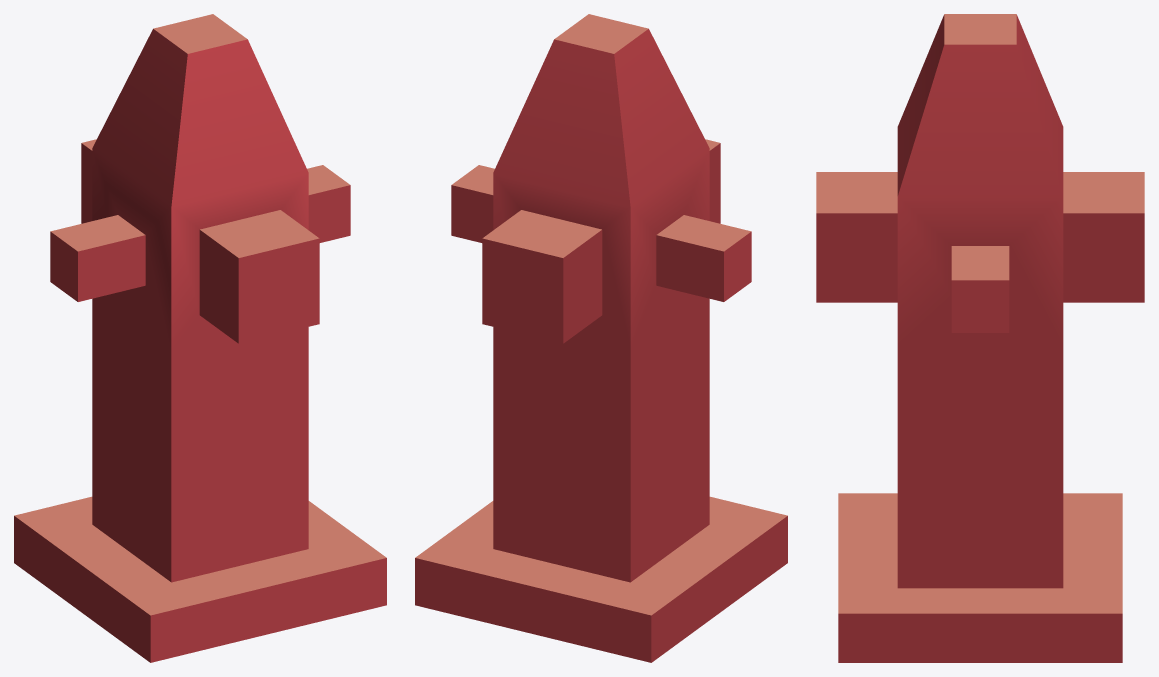
File: hydrant_mesh.fbx
The picture shows the model from 3 angles, left to right: view 1: azimuth 30°, elevation 25°; view 2: azimuth 150°, elevation 25°; view 3: azimuth 270°, elevation 25°; orthographic projection. The views are drawn at different scales.
Parts seen in each view (by area): view 1: hydrant_mesh; view 2: hydrant_mesh; view 3: hydrant_mesh.
Boxes of the visible parts, x1,y1,x2,y2 form: hydrant_mesh: [14, 14, 386, 662]; hydrant_mesh: [415, 14, 787, 662]; hydrant_mesh: [816, 14, 1144, 662].
Size of the model in its own units: 0.7849 by 1.51 by 0.7849.
